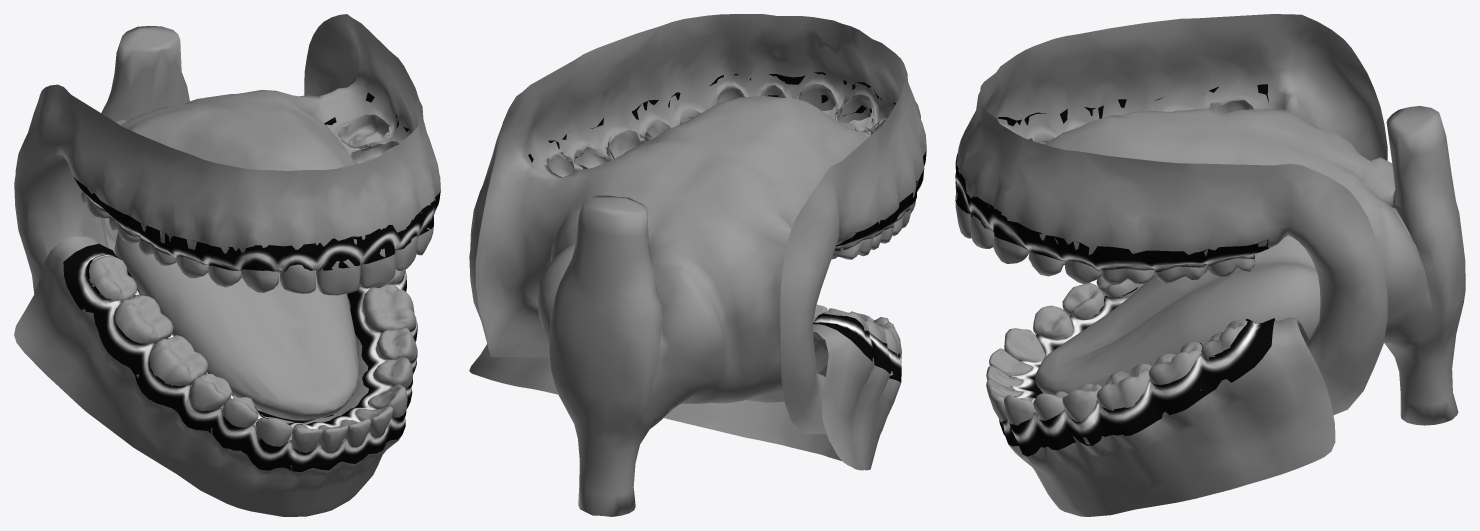
The model's file is gums_low_tongue_in_pro_optimized.FBX.
3 views of the same model, side by side, from view 1: azimuth 30°, elevation 25°; view 2: azimuth 150°, elevation 25°; view 3: azimuth 270°, elevation 25° (orthographic). The views are drawn at different scales.
Visible parts, largest first — view 1: Gum_upper_low, Tongue_low, Salvia_mesh_low; view 2: Gum_upper_low, Tongue_low, Salvia_mesh_low; view 3: Gum_upper_low, Tongue_low, Salvia_mesh_low.
Boxes of the visible parts, x1,y1,x2,y2 form: Gum_upper_low: (14, 14, 440, 295); Tongue_low: (14, 232, 417, 516); Salvia_mesh_low: (63, 92, 440, 472); Gum_upper_low: (469, 14, 926, 516); Tongue_low: (469, 304, 901, 470); Salvia_mesh_low: (528, 72, 926, 382); Gum_upper_low: (955, 14, 1465, 425); Tongue_low: (986, 235, 1335, 516); Salvia_mesh_low: (955, 84, 1274, 456).
Bounding box in the file's own units: 74.96 × 77.54 × 88.46.
